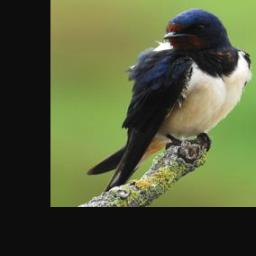Swallow: (85, 7, 253, 194)
